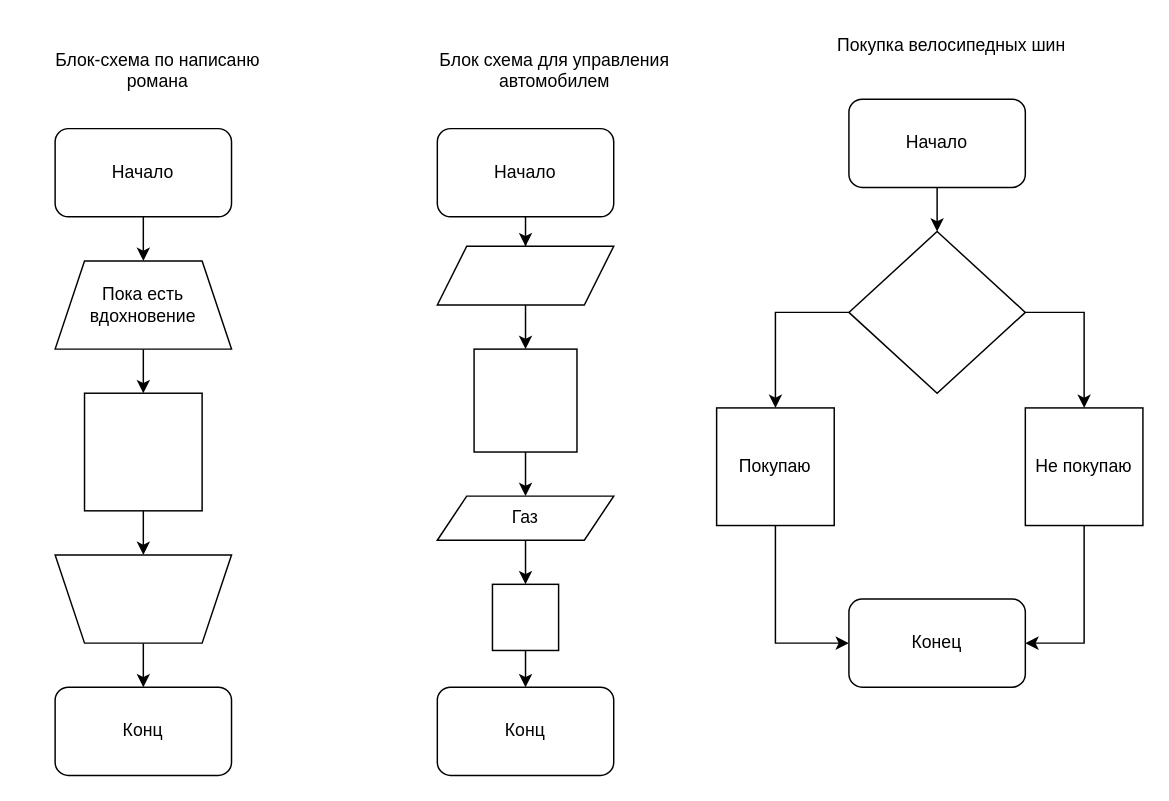
The diagram is 1169 pixels wide and 801 high, and some of its shapes have lost their labels. The centre of each missing label's shape, as x and y in pixels:
"Включение" goes at pixel 525 400.
"Есть нужные шины" goes at pixel 936 311.
"Зажигание Скорость" goes at pixel 525 275.
"Нажать" goes at pixel 525 616.
"Пишу роман" goes at pixel 142 451.
